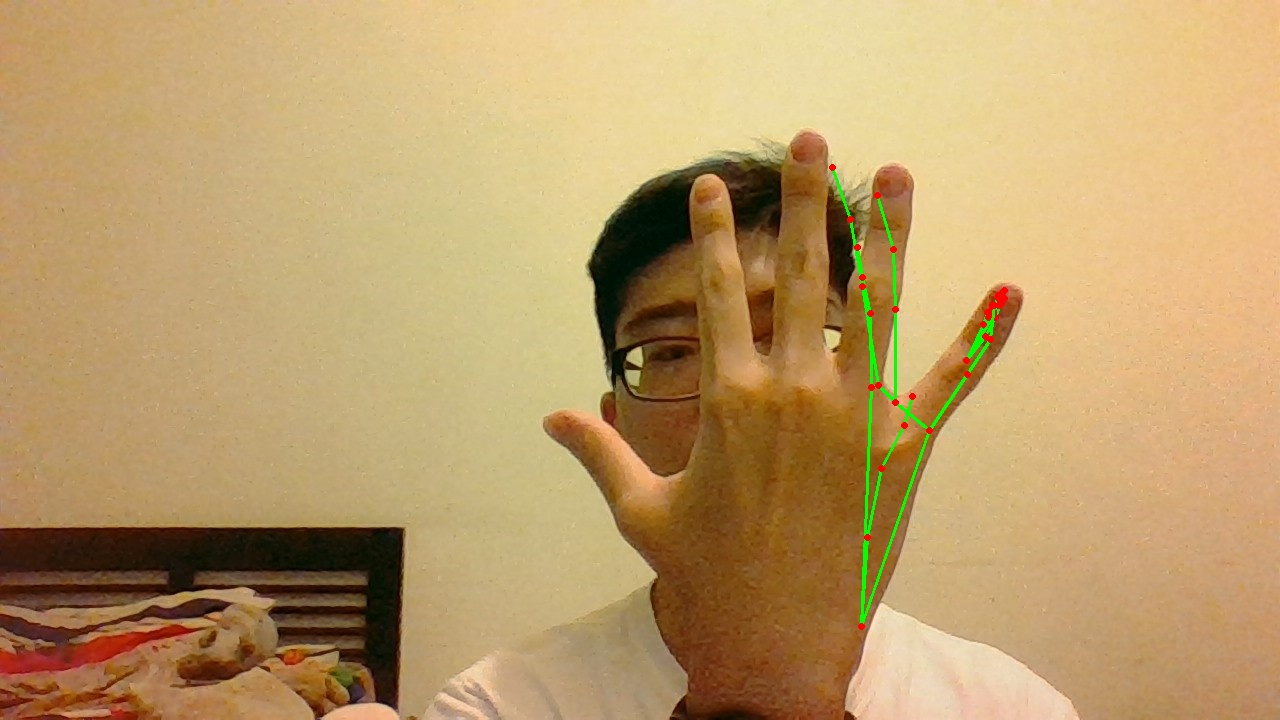Hello: (821, 158, 1012, 644)
